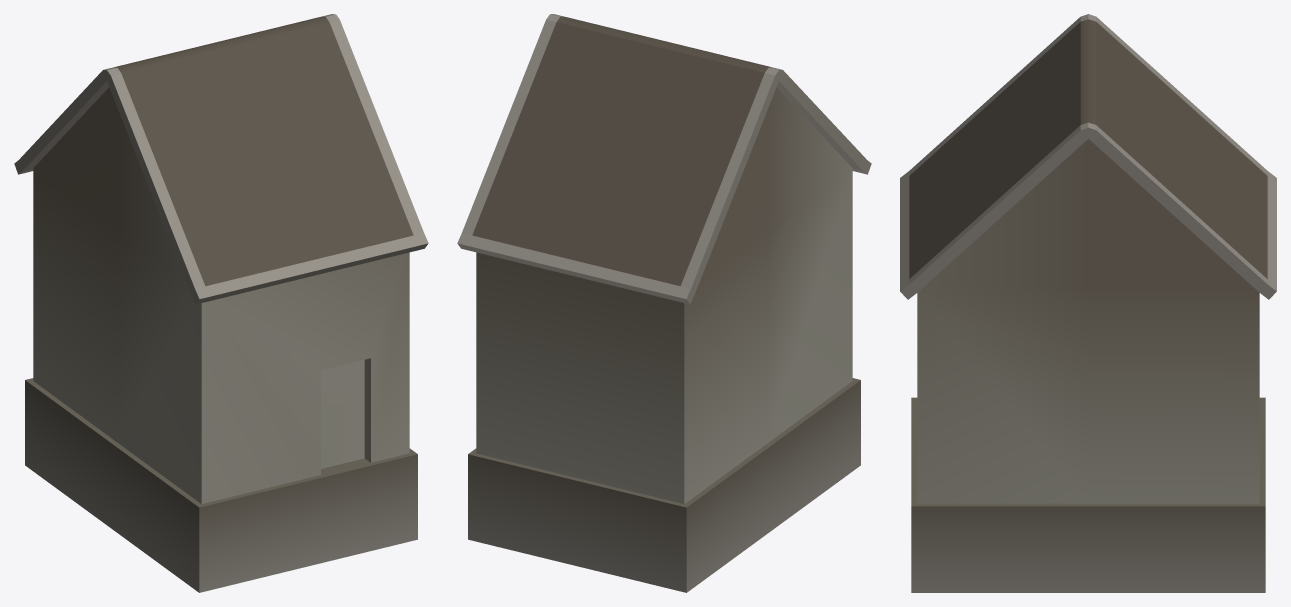
The model's file is Base-RowHouse_C.fbx.
3 views of the same model, side by side, from view 1: azimuth 30°, elevation 25°; view 2: azimuth 150°, elevation 25°; view 3: azimuth 270°, elevation 25° (orthographic).
Visible parts, largest first — view 1: Base-RowHouse_C; view 2: Base-RowHouse_C; view 3: Base-RowHouse_C.
Part boxes in pixels (x1,y1,x2,y2): Base-RowHouse_C: (14, 14, 428, 592); Base-RowHouse_C: (457, 14, 871, 592); Base-RowHouse_C: (900, 14, 1276, 592).
Size of the model in its own units: 550 by 1056 by 771.
